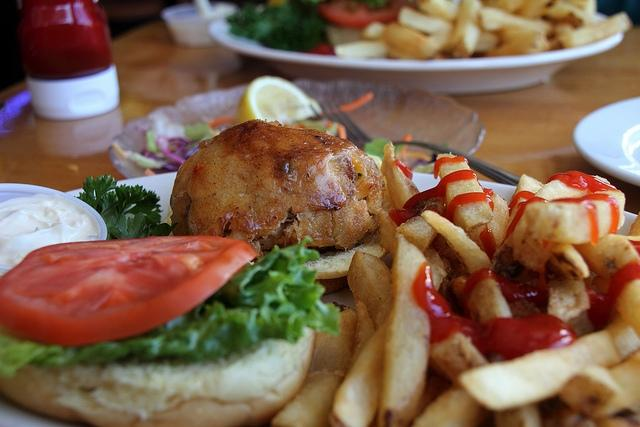lemon: (236, 76, 322, 126)
lettuce: (4, 235, 343, 377), (224, 1, 328, 52), (74, 172, 163, 231), (364, 138, 390, 160), (146, 132, 167, 158), (184, 123, 210, 140)
tomato: (0, 234, 261, 348), (317, 1, 419, 28)
